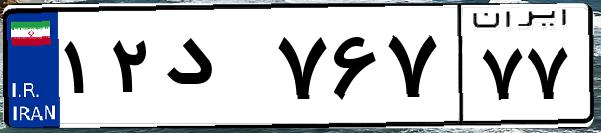1: (57, 26, 110, 100)
2: (110, 28, 158, 98)
6: (330, 28, 385, 110)
7: (270, 28, 330, 110), (385, 28, 445, 110), (475, 38, 525, 113), (525, 38, 570, 115)
د: (158, 20, 270, 120)
